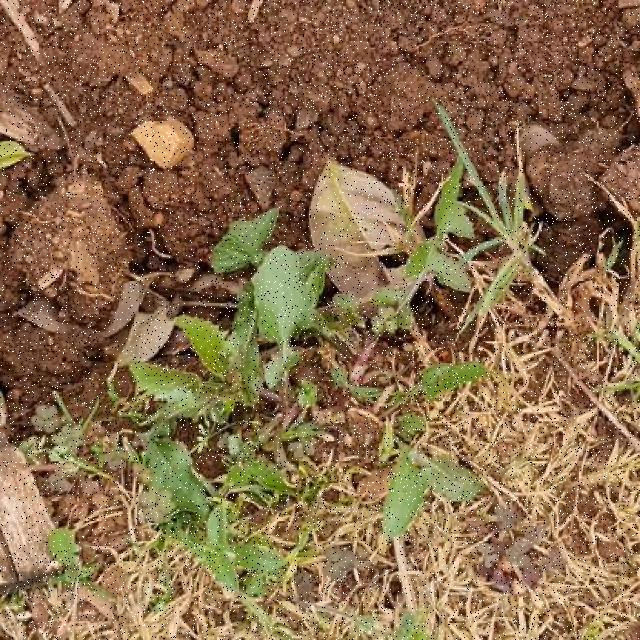weed: (128, 209, 338, 596), (369, 165, 472, 328), (382, 415, 485, 576), (222, 443, 294, 504), (409, 363, 488, 401)
